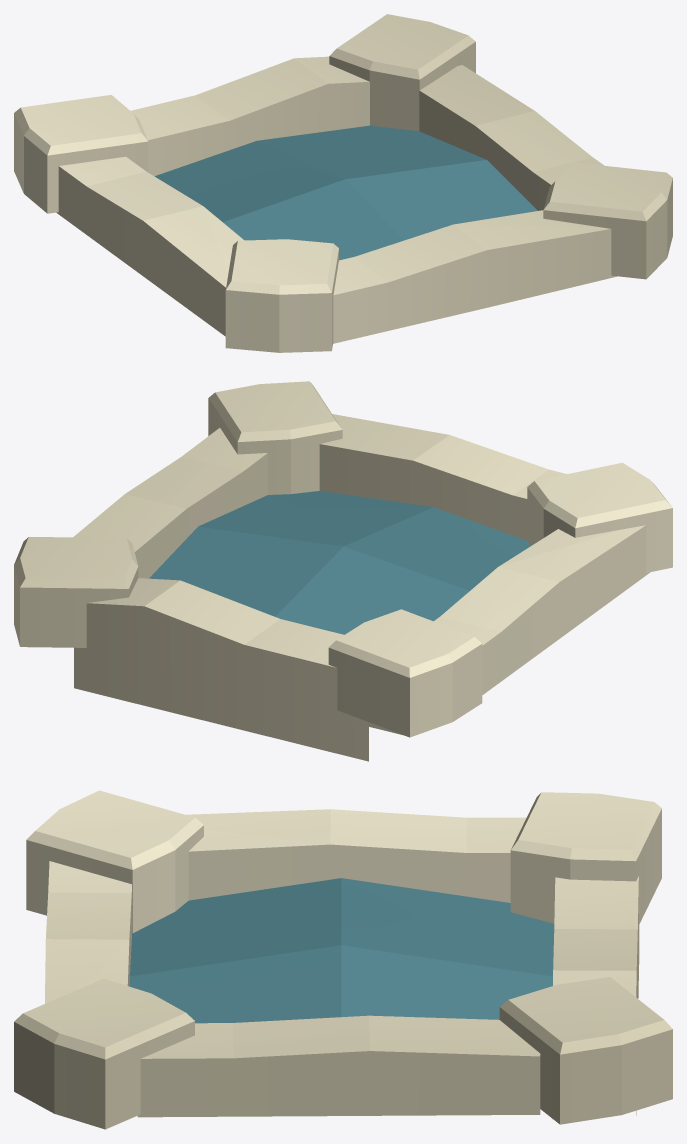
File: Ornament_Sand.FBX
3 views of the same model, one above another, from view 1: azimuth 30°, elevation 25°; view 2: azimuth 150°, elevation 25°; view 3: azimuth 270°, elevation 25° (orthographic). The views are drawn at different scales.
Visible parts, largest first — view 1: Ornament_Sand; view 2: Ornament_Sand; view 3: Ornament_Sand.
Boxes of the visible parts, <box> form: Ornament_Sand: <box>14,14,672,352</box>; Ornament_Sand: <box>14,381,672,761</box>; Ornament_Sand: <box>14,790,672,1129</box>.
Size of the model in its own units: 2.53 by 0.5761 by 2.66.
